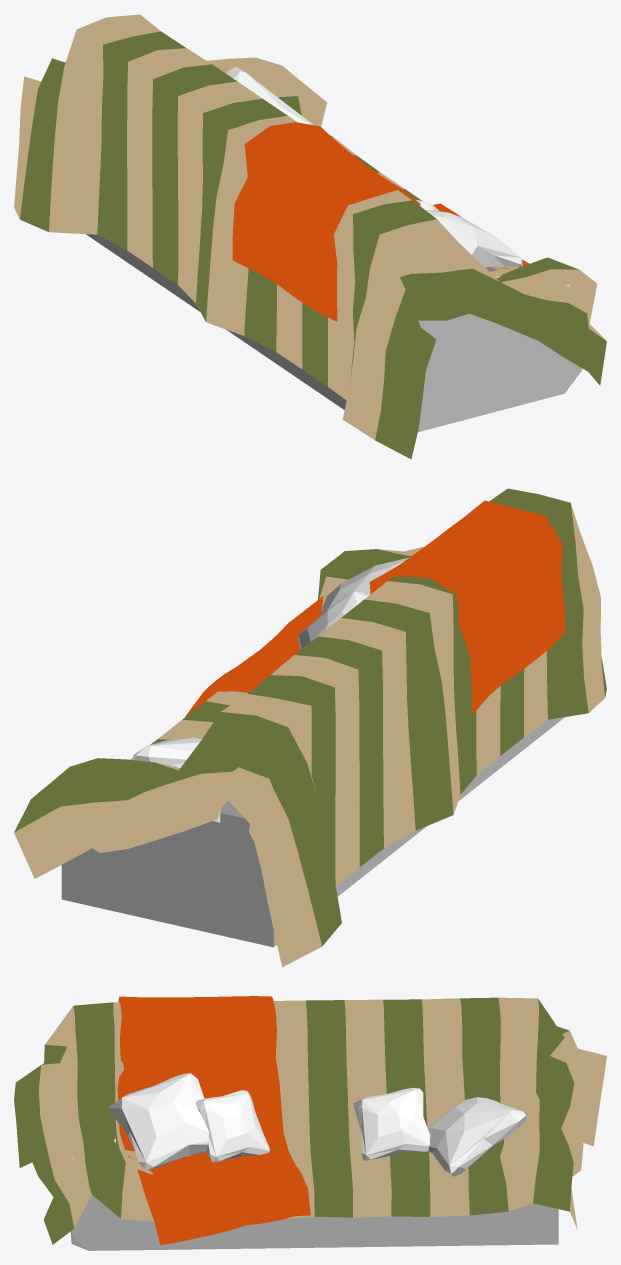
The model's file is orange_sofa_1.glb.
3 views of the same model, one above another, from view 1: azimuth 30°, elevation 25°; view 2: azimuth 150°, elevation 25°; view 3: azimuth 270°, elevation 25° (orthographic). The views are drawn at different scales.
Visible parts, largest first — view 1: Blanket.001, Blanket.002, Cube, Cushion, Cushion.002; view 2: Blanket.001, Blanket.002, Cube, Cushion.002, Cushion.003, Cushion; view 3: Blanket.001, Blanket.002, Cube, Cushion, Cushion.002, Cushion.001, Cushion.003.
Boxes of the visible parts, x1,y1,x2,y2 form: Blanket.001: [14, 14, 606, 458]; Blanket.002: [232, 122, 529, 321]; Cube: [86, 234, 582, 431]; Cushion: [425, 210, 522, 271]; Cushion.002: [226, 67, 313, 125]; Blanket.001: [14, 488, 606, 967]; Blanket.002: [185, 500, 565, 716]; Cube: [61, 717, 564, 947]; Cushion.002: [133, 737, 201, 767]; Cushion.003: [298, 591, 368, 649]; Cushion: [320, 557, 408, 616]; Blanket.001: [14, 997, 606, 1244]; Blanket.002: [117, 996, 310, 1245]; Cube: [70, 1138, 558, 1250]; Cushion: [108, 1073, 208, 1170]; Cushion.002: [428, 1097, 526, 1176]; Cushion.001: [353, 1087, 430, 1160]; Cushion.003: [195, 1090, 269, 1162].
Bounding box in the file's own units: 2.65 × 1.9 × 5.73.
